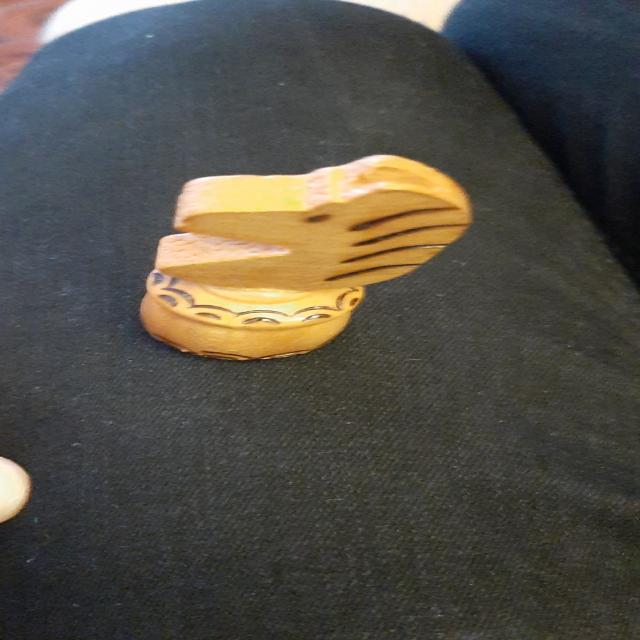white-knight: (138, 154, 471, 361)
